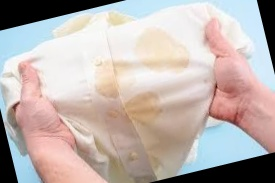oil: (124, 21, 189, 84), (110, 83, 168, 146), (88, 57, 137, 106)
